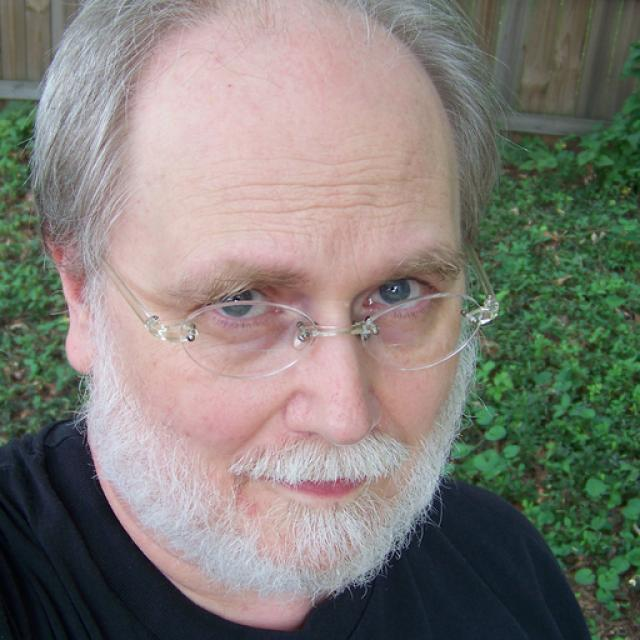content: (96, 0, 467, 591)
